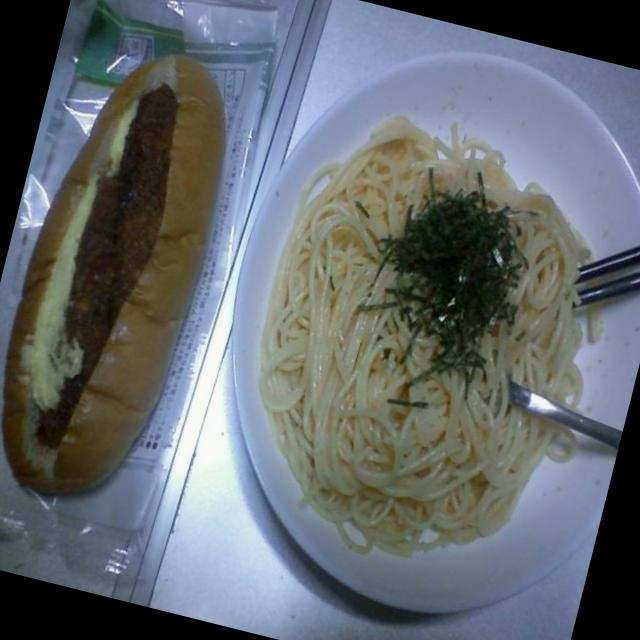Pasta: (211, 103, 640, 590)
